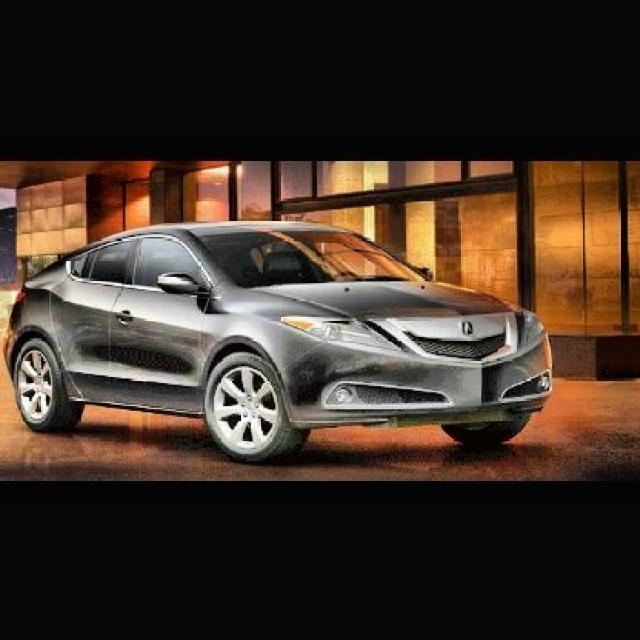black: (9, 217, 553, 462)
